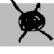not correct: (8, 0, 53, 43)
